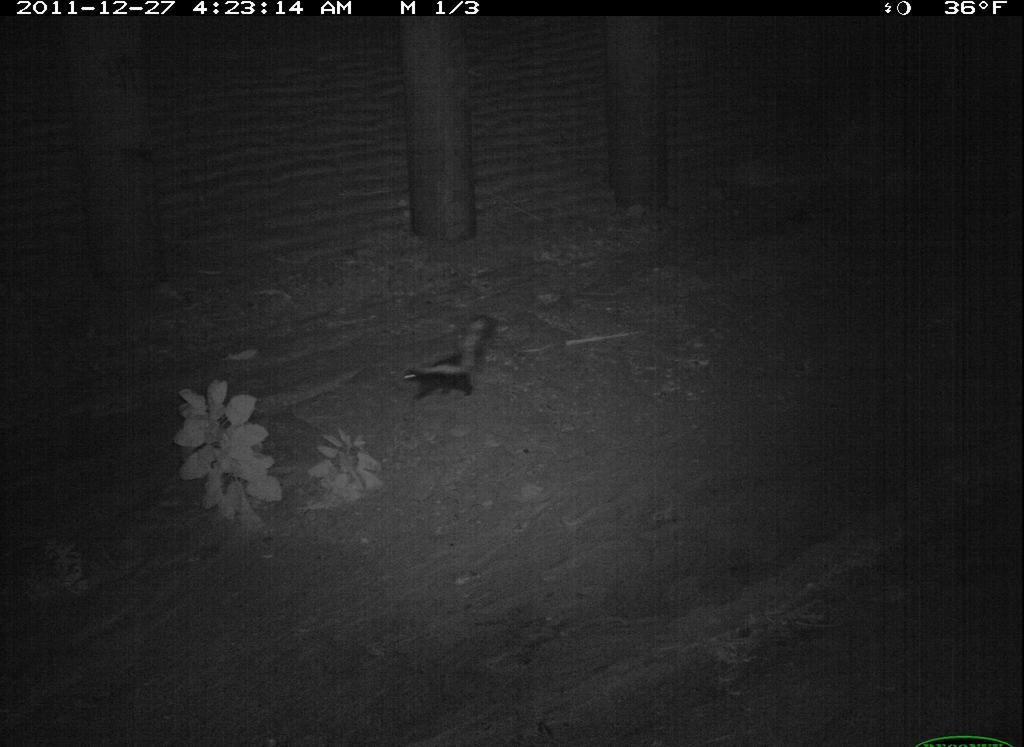skunk: (793, 615, 1014, 747)
